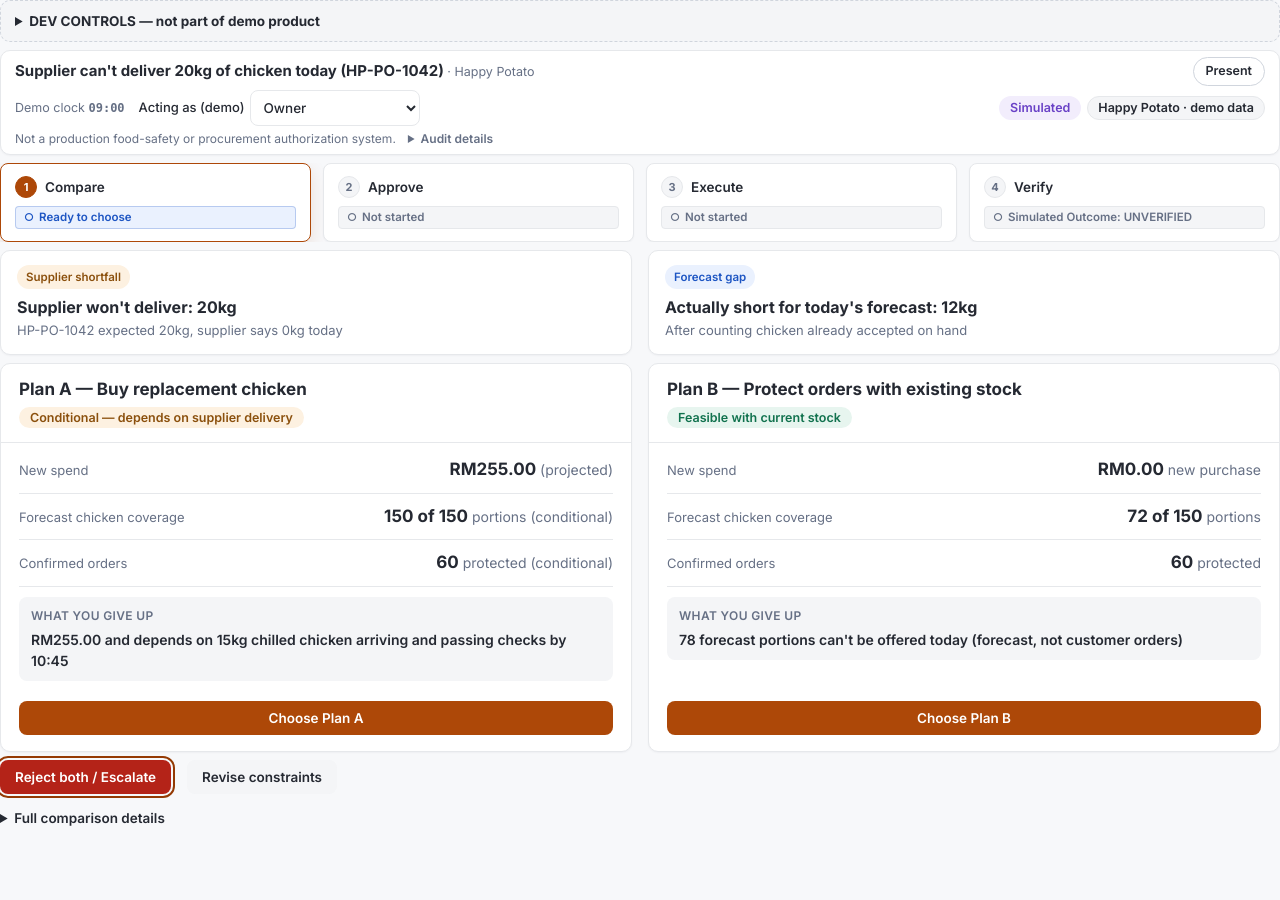
Scenario: Recovery Comparison › Escape closes a dialog and returns focus
The image size is (1280, 900).
Click the button "Reject both / Escalate". click: (86, 777)
box: left=0, top=760, right=171, bottom=794
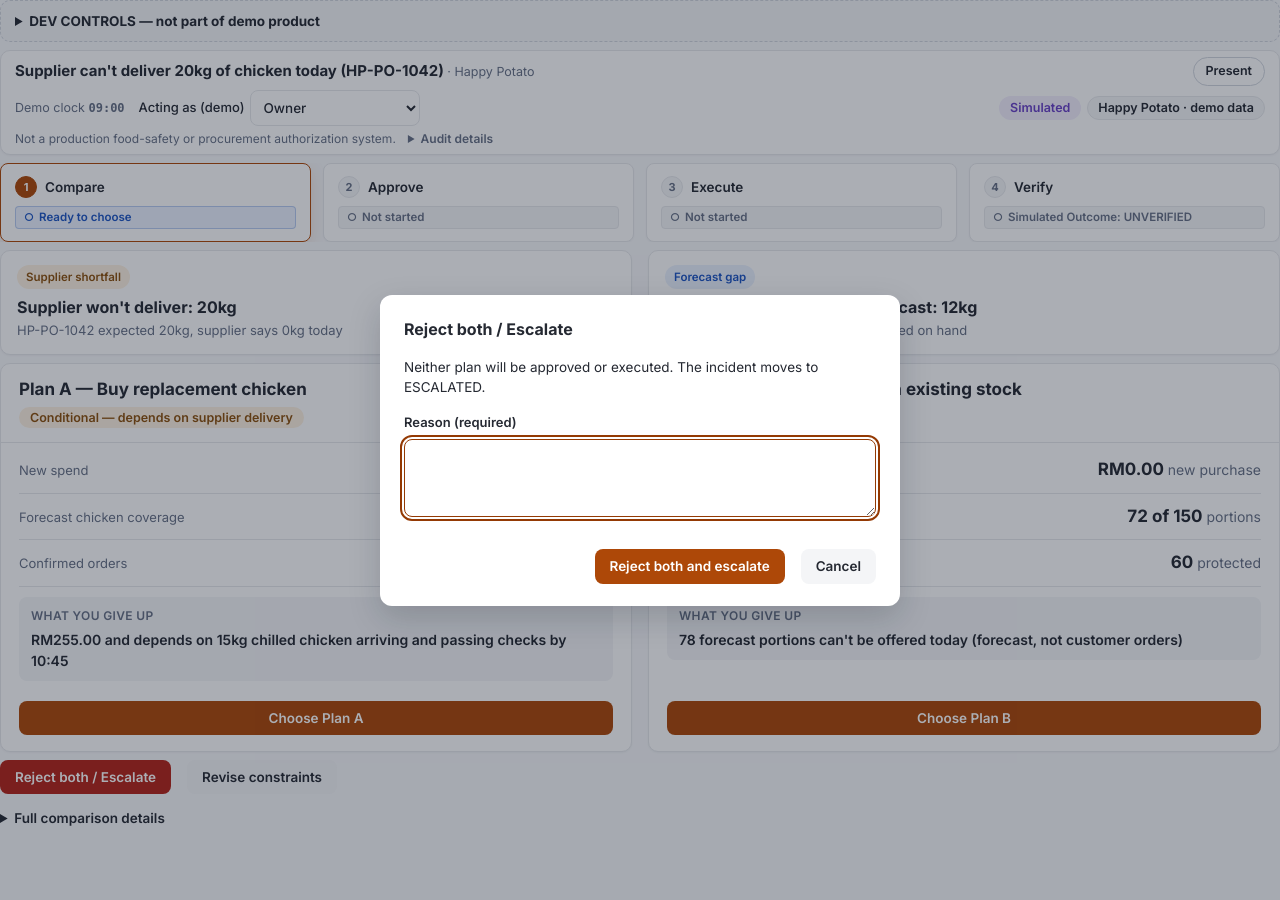
Press Escape in the dialog, box left=380, top=294, right=900, bottom=606
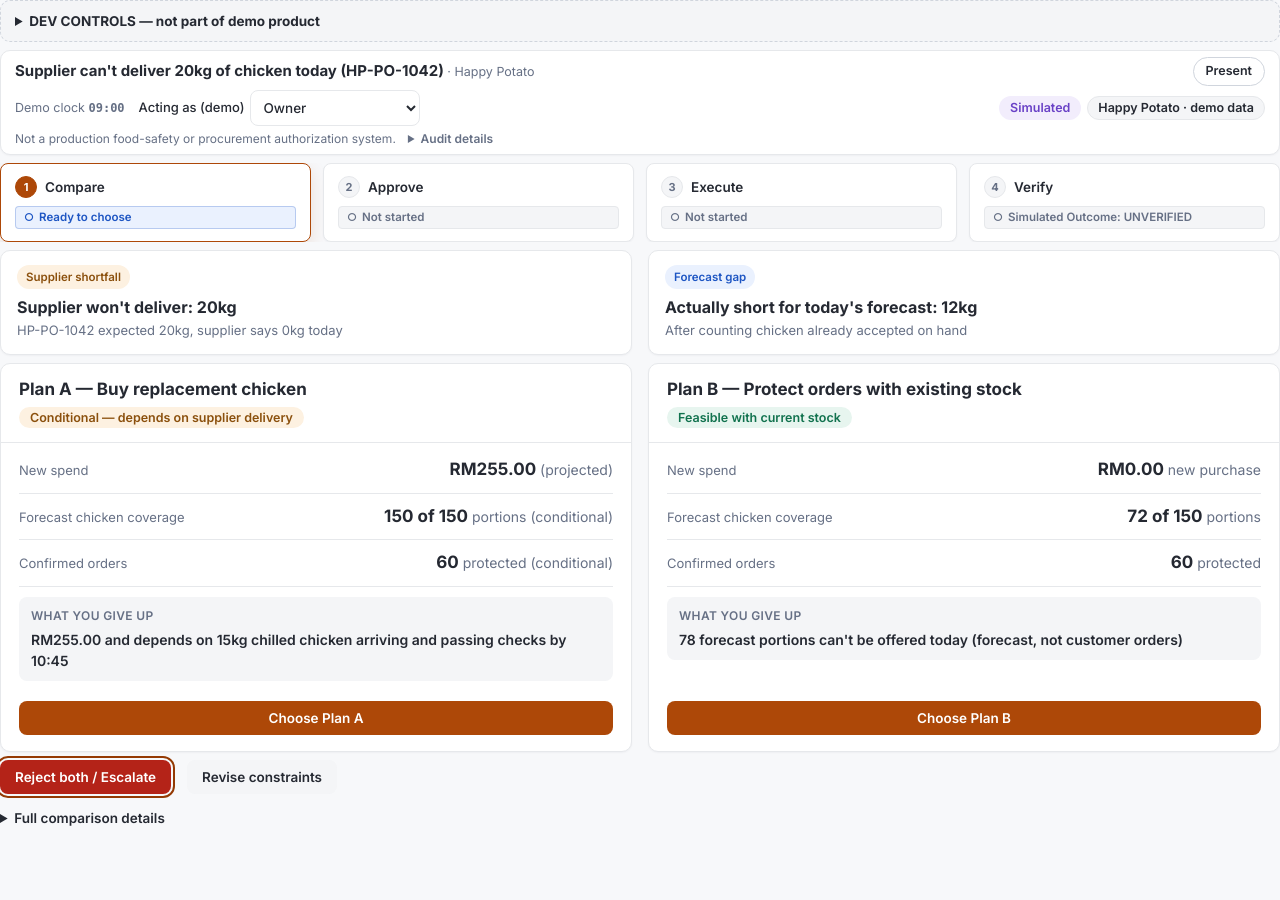
Expected: the dialog is gone
